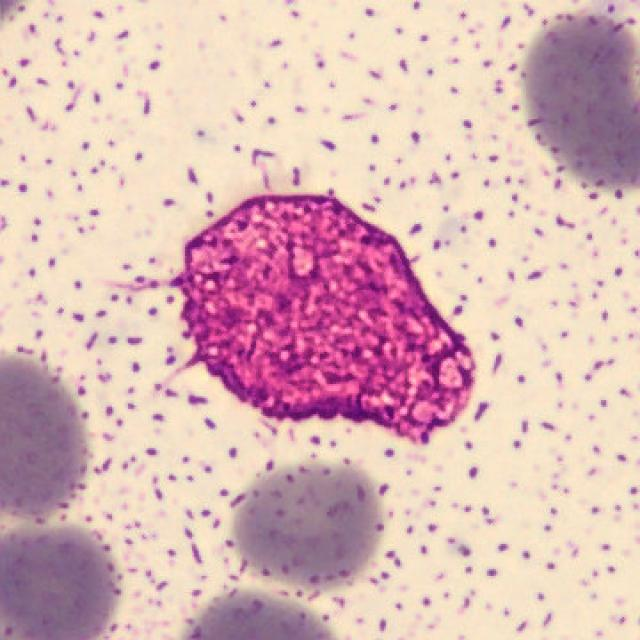Restos celulares: (176, 194, 476, 444)
